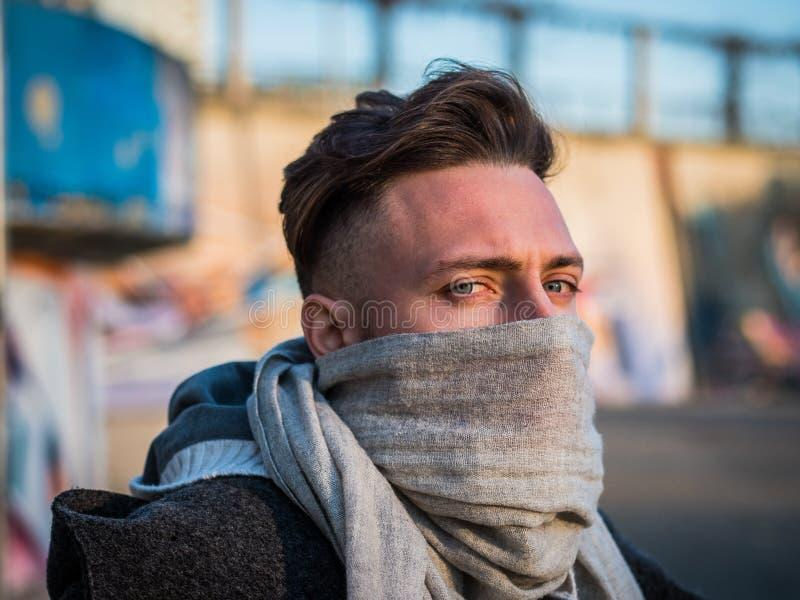scarf-kerchief: (282, 307, 635, 600)
